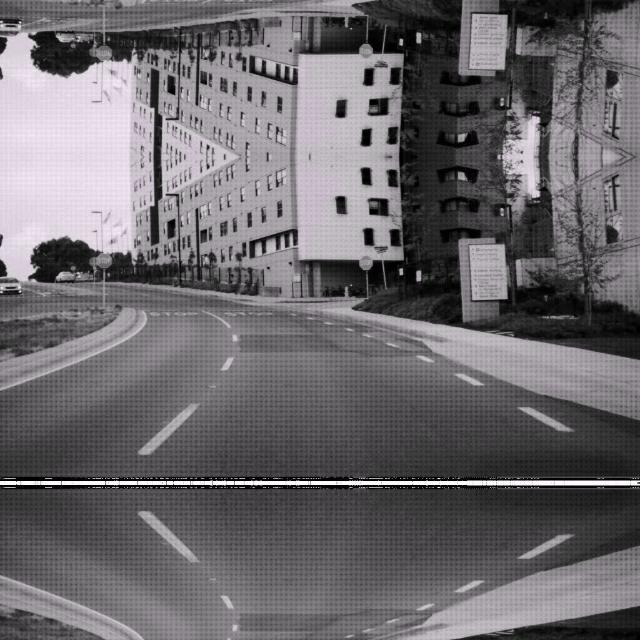stop: (96, 251, 112, 267), (96, 45, 112, 61), (358, 254, 372, 268), (358, 44, 372, 58)
